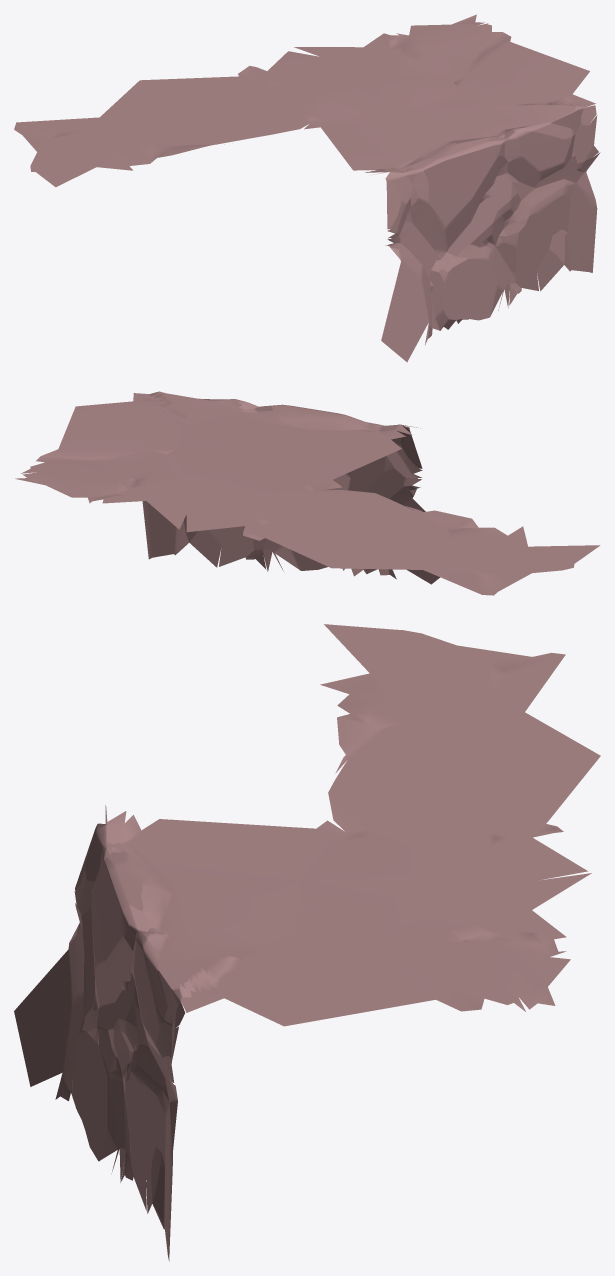
File: cliff_area_2.fbx_Cliff_Area_2_012LODs.fbx
3 views of the same model, one above another, from view 1: azimuth 30°, elevation 25°; view 2: azimuth 150°, elevation 25°; view 3: azimuth 270°, elevation 25° (orthographic). The views are drawn at different scales.
Visible parts, largest first — view 1: Cliff Area 2.012_LOD0; view 2: Cliff Area 2.012_LOD0; view 3: Cliff Area 2.012_LOD0.
Boxes of the visible parts, x1,y1,x2,y2 form: Cliff Area 2.012_LOD0: [14, 14, 600, 362]; Cliff Area 2.012_LOD0: [15, 391, 600, 595]; Cliff Area 2.012_LOD0: [14, 624, 600, 1261].
Size of what is drawn, in the model's own units: 4966 by 1572 by 3086.
